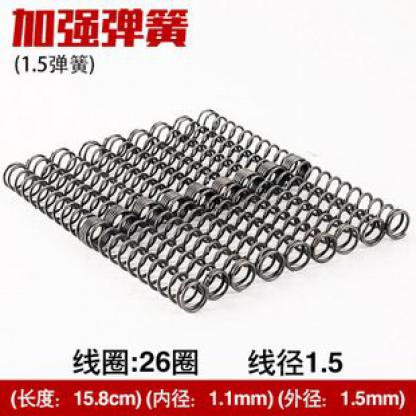FOD: (88, 219, 210, 316), (112, 208, 230, 302), (141, 200, 258, 294), (170, 194, 288, 284), (297, 160, 413, 241), (2, 158, 104, 247), (194, 104, 296, 172)
